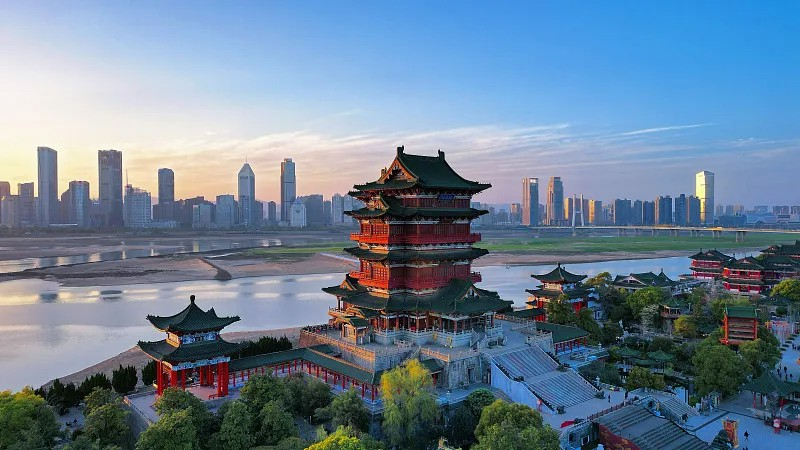Teng: (321, 145, 515, 340)
